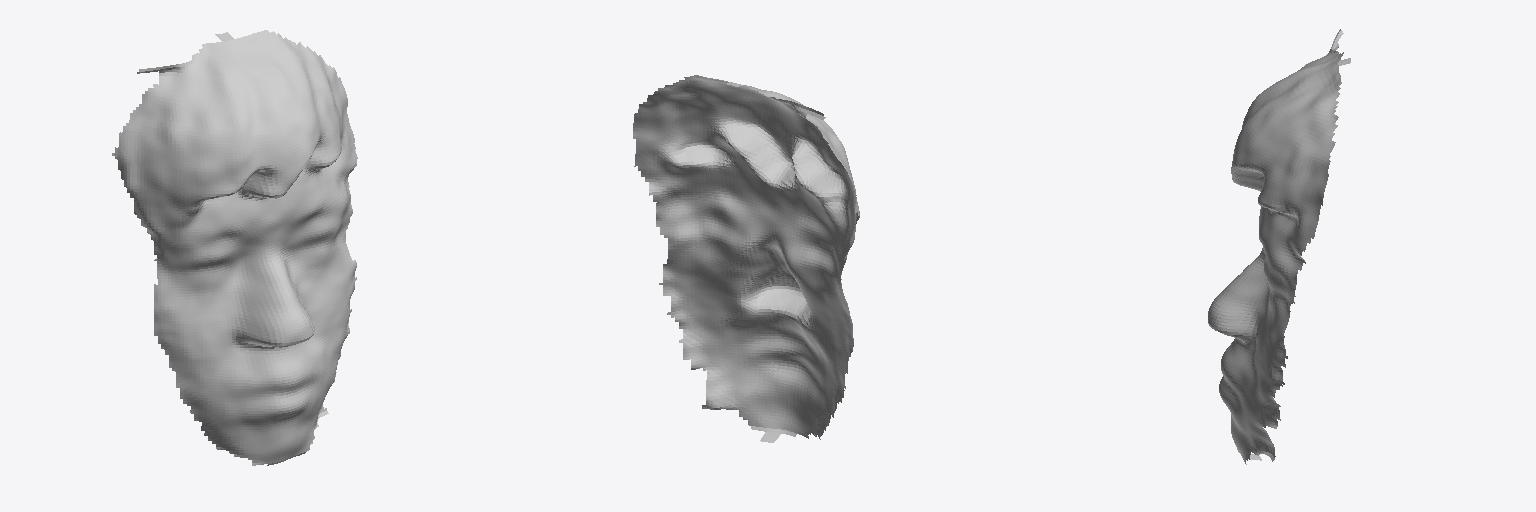
Rendered from dhkim.obj.s.obj.
The picture shows the model from 3 angles: view 1: azimuth 30°, elevation 25°; view 2: azimuth 150°, elevation 25°; view 3: azimuth 270°, elevation 25°; orthographic projection.
Bounding box in the file's own units: 0.9136 × 1.47 × 0.4913.